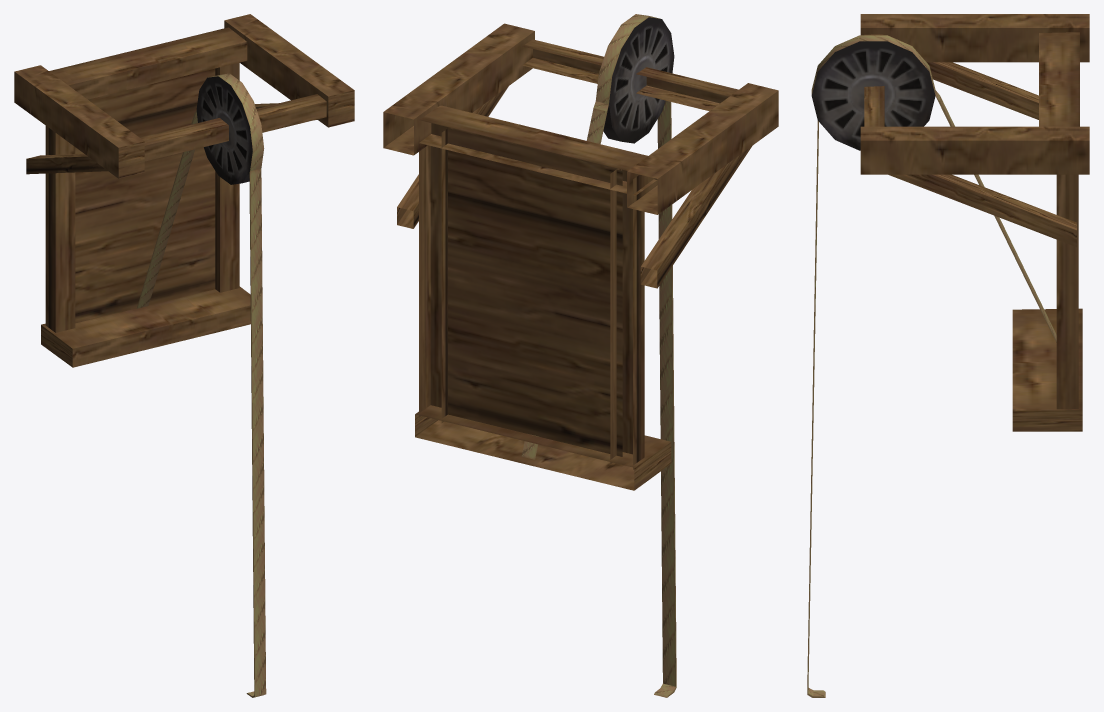
File: fanasty_mod_winch_window.fbx
3 views of the same model, side by side, from view 1: azimuth 30°, elevation 25°; view 2: azimuth 150°, elevation 25°; view 3: azimuth 270°, elevation 25° (orthographic). The views are drawn at different scales.
Visible parts, largest first — view 1: winch_window; view 2: winch_window; view 3: winch_window.
Boxes of the visible parts, x1,y1,x2,y2 form: winch_window: [14, 14, 354, 697]; winch_window: [383, 14, 778, 697]; winch_window: [807, 14, 1089, 697].
Size of the model in its own units: 2.13 by 5.14 by 2.
